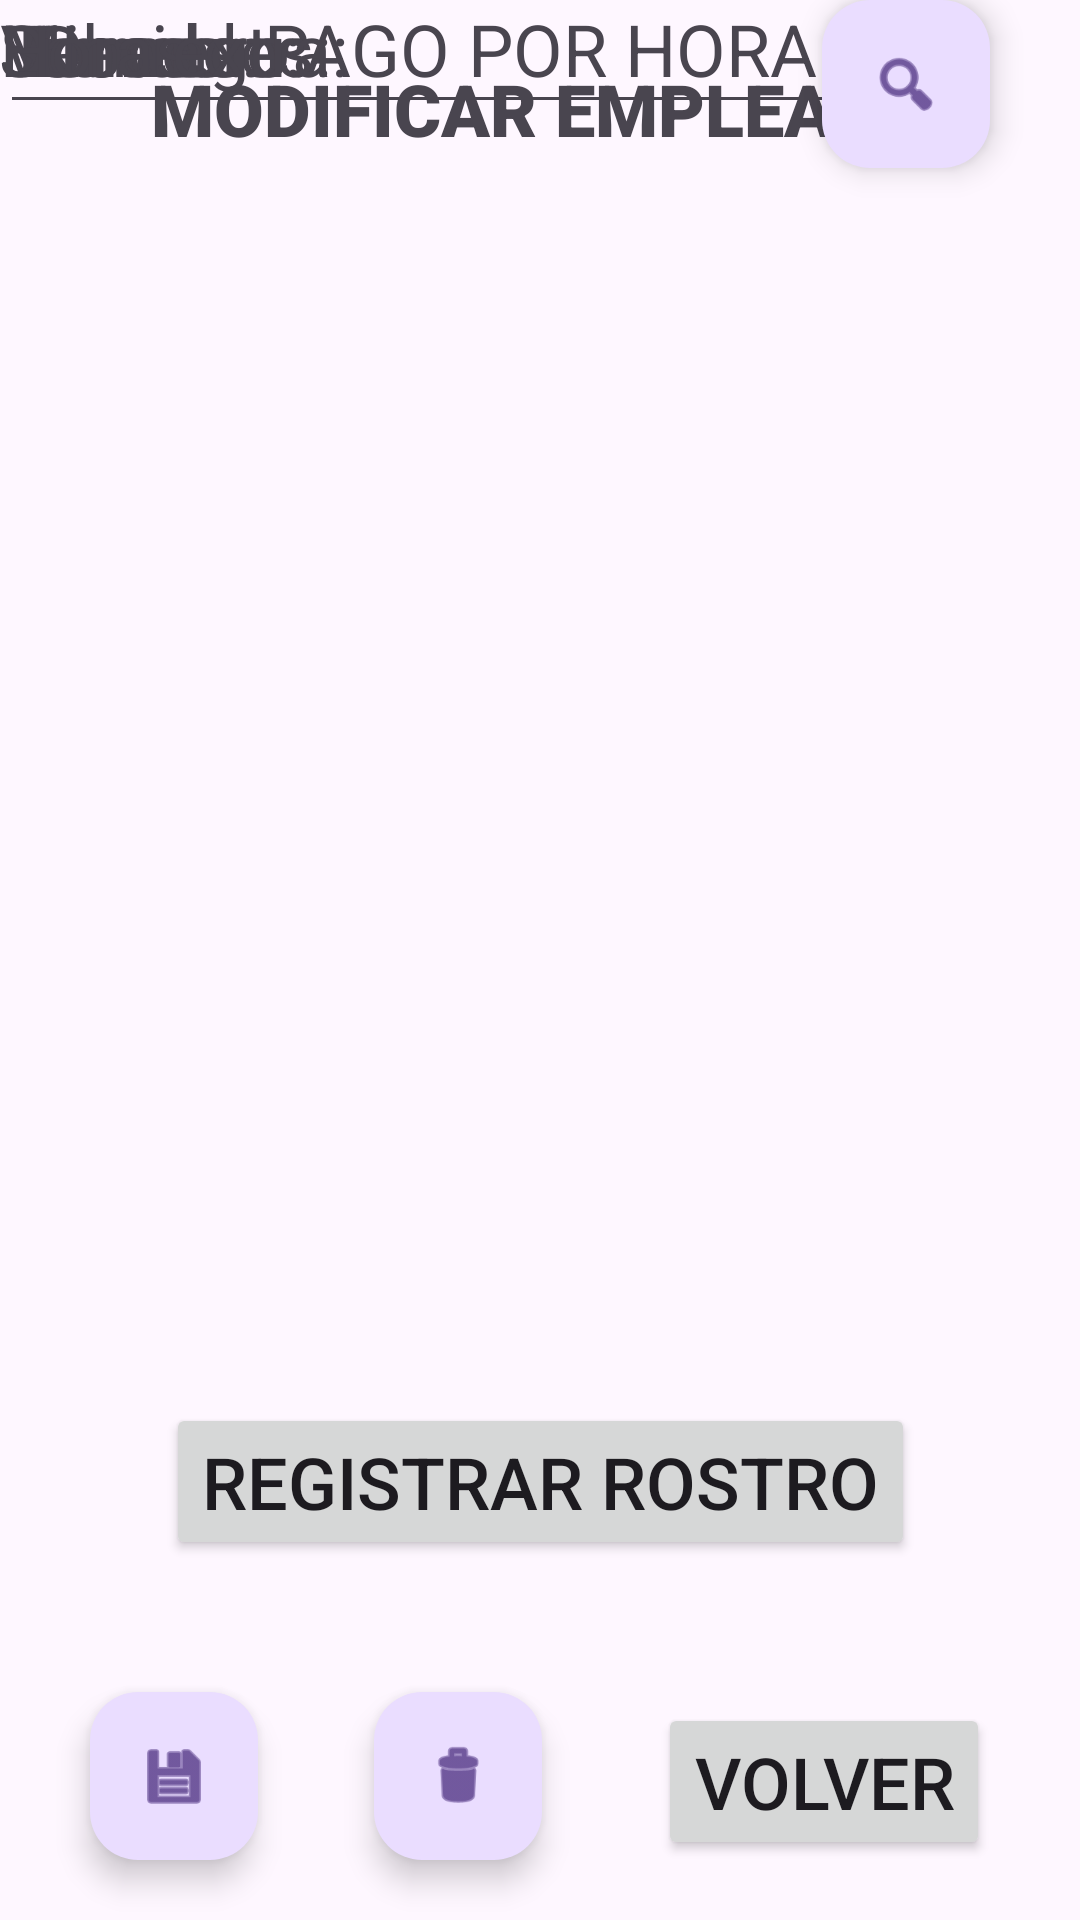

Where icons sit on this 1080*1920 app screen, as detection(x1, y1, x2, y2):
delete: detection(374, 1692, 542, 1860)
save: detection(90, 1692, 258, 1860)
search: detection(822, 0, 990, 168)
